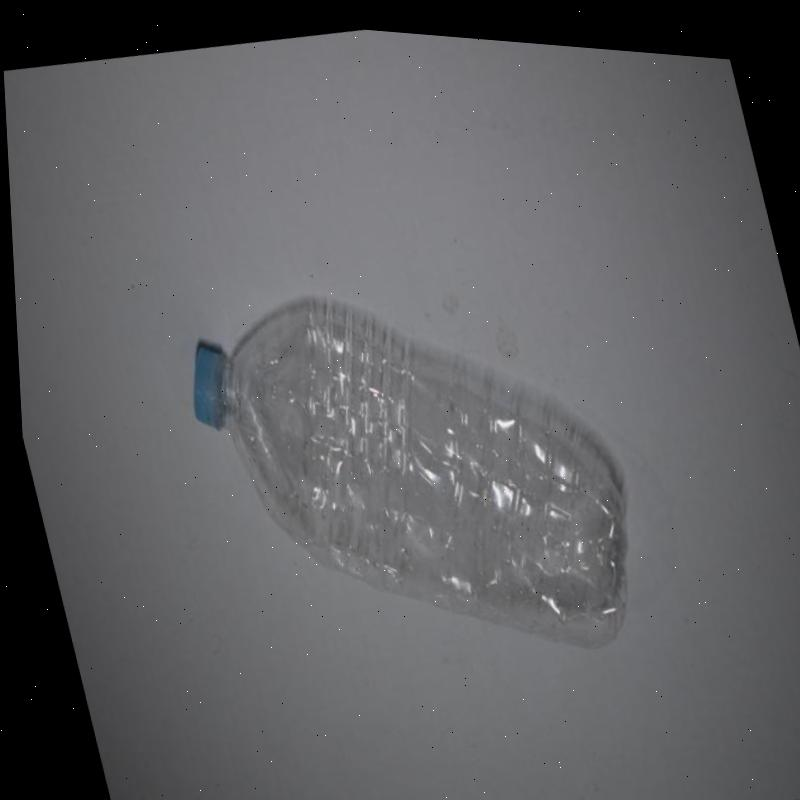botella: (159, 227, 655, 711)
